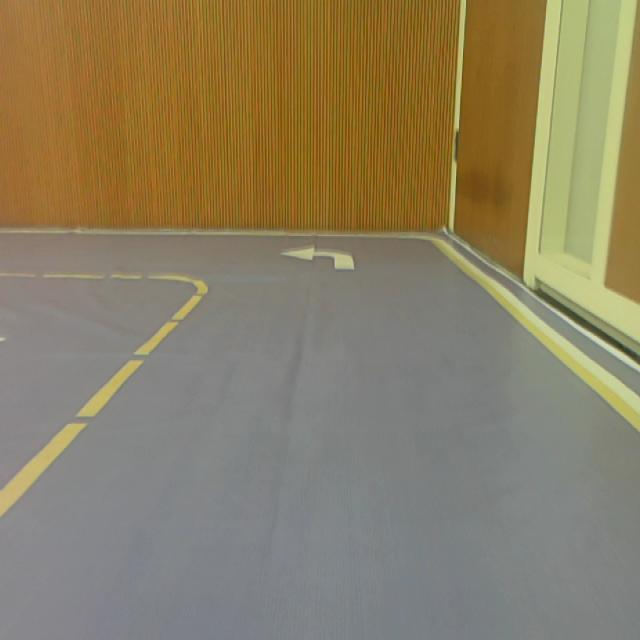left_lane: (0, 288, 210, 520)
right_lane: (432, 241, 640, 435)
